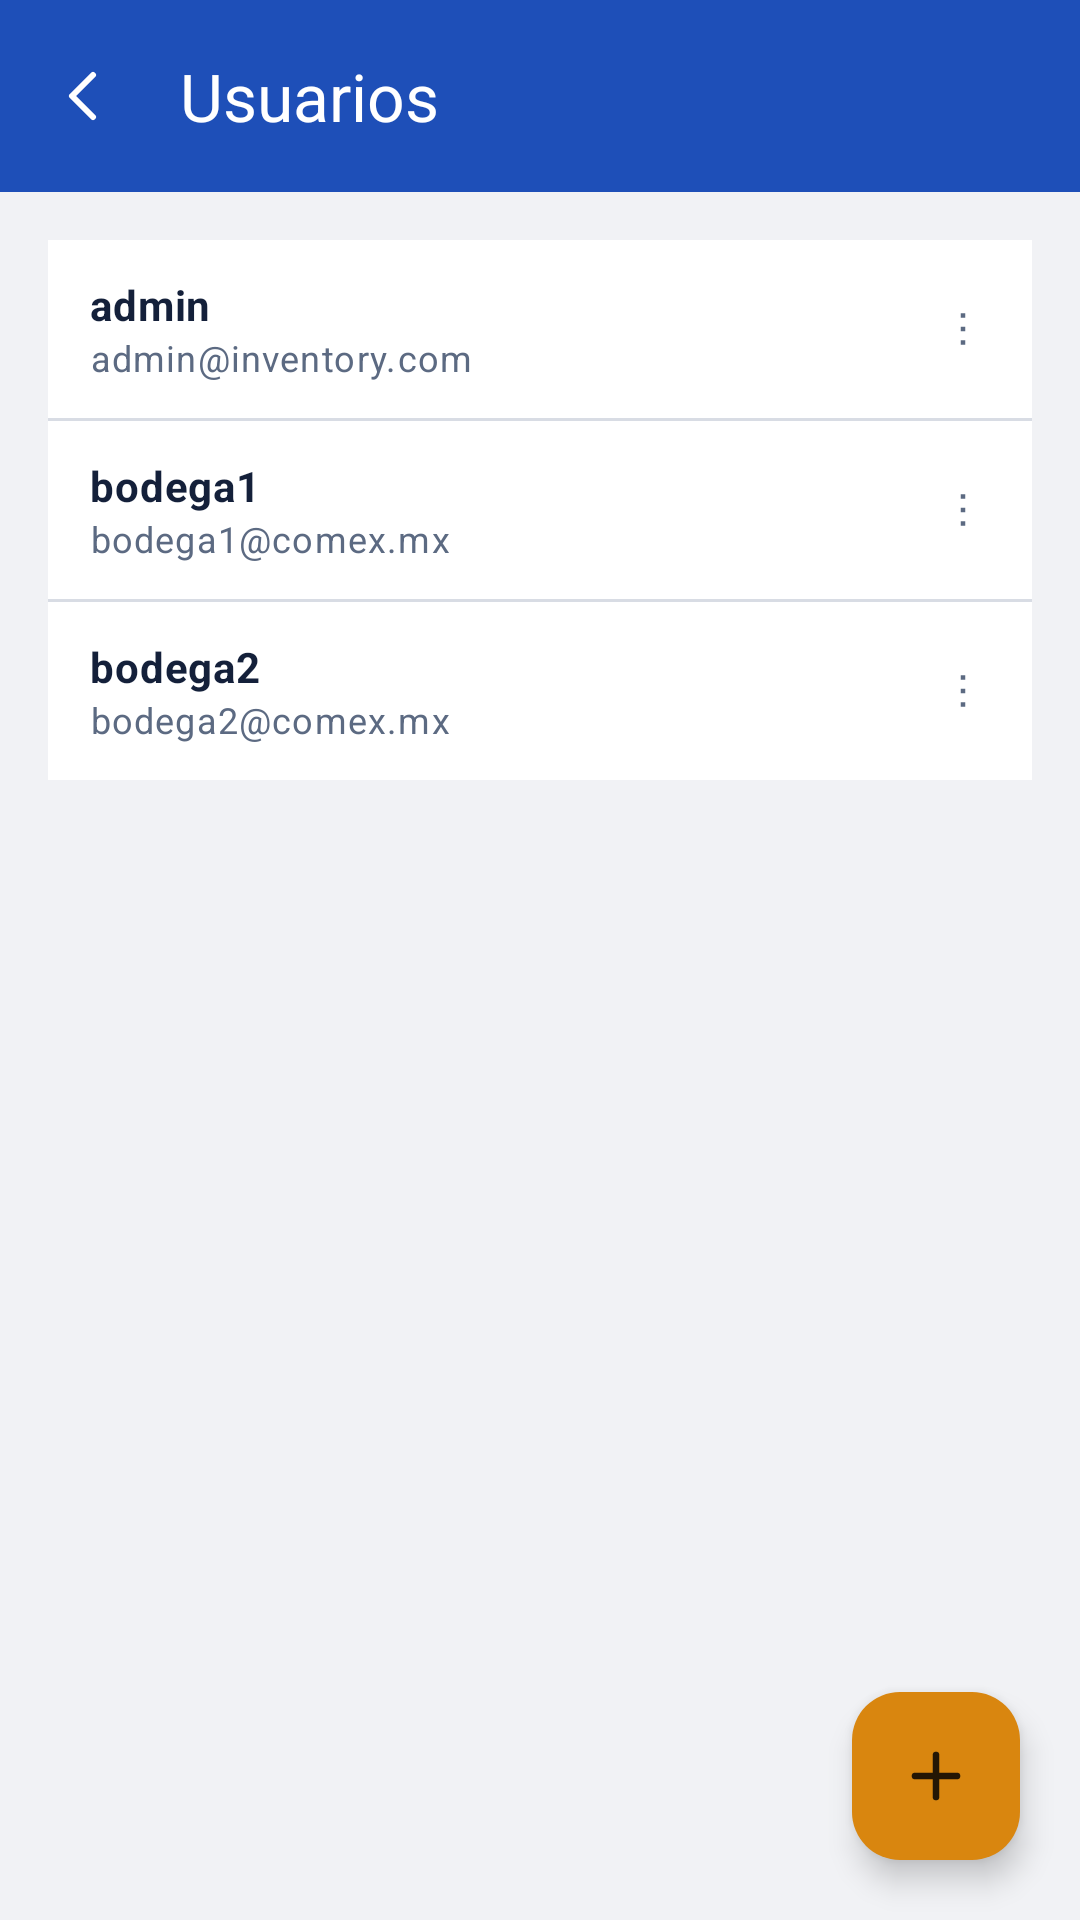

Icons on this 1080×1920 Android screen, each with its box as rect(x1, y1, x2, y2):
Agregar: rect(852, 1692, 1020, 1860)
Más opciones: rect(960, 313, 966, 345), rect(960, 494, 966, 526), rect(960, 675, 966, 707)
